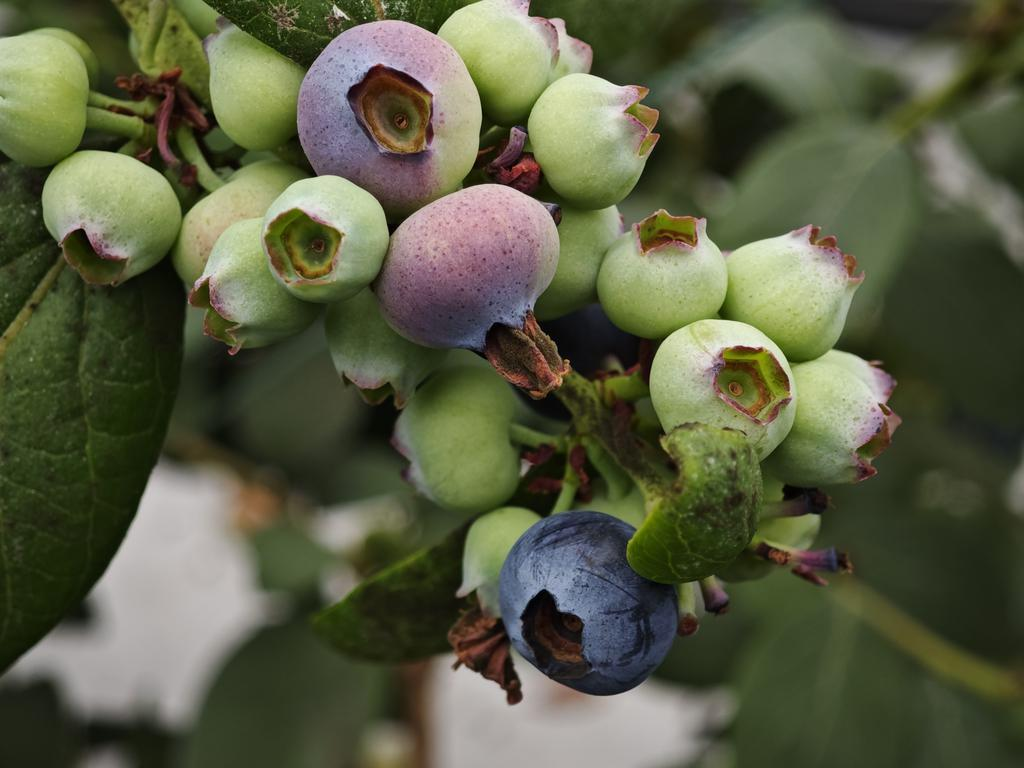RipeBlueBerry: (502, 511, 681, 700)
Semi-RipeBlueBerry: (298, 17, 483, 199), (384, 178, 559, 368)
UnripeBlueBerry: (651, 320, 798, 464), (42, 151, 183, 289), (530, 71, 661, 207), (264, 172, 390, 301), (597, 212, 729, 334)
